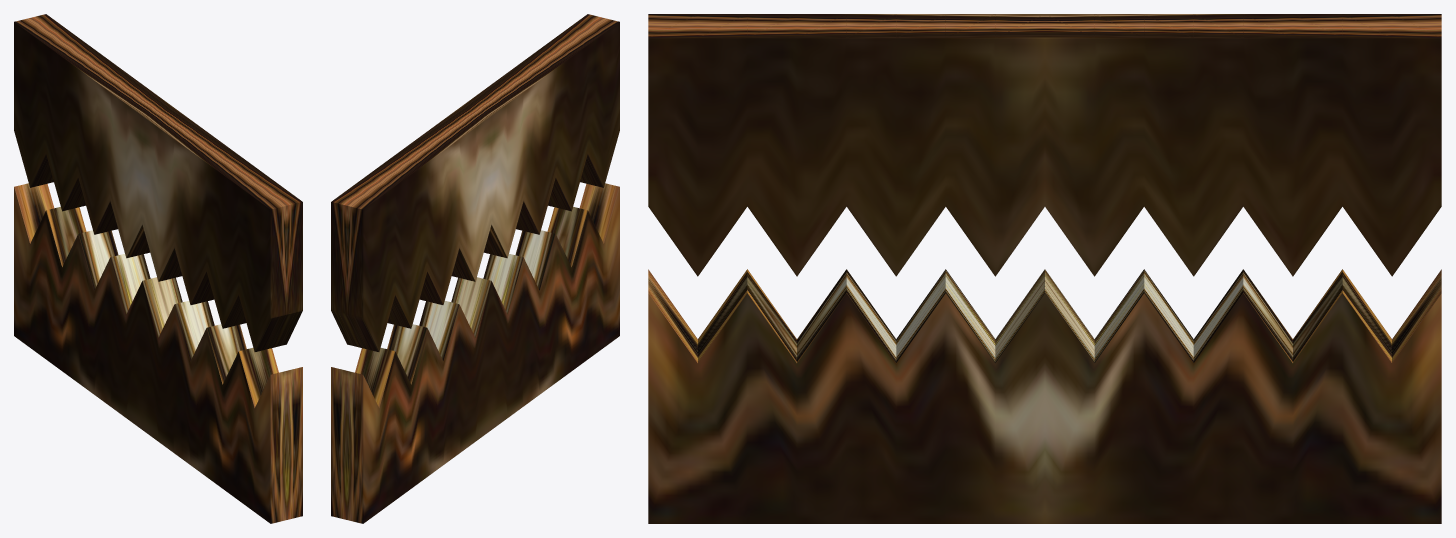
File: TeethSaw.fbx
3 views of the same model, side by side, from view 1: azimuth 30°, elevation 25°; view 2: azimuth 150°, elevation 25°; view 3: azimuth 270°, elevation 25° (orthographic). The views are drawn at different scales.
Parts seen in each view (by area): view 1: polySurface2, polySurface1; view 2: polySurface2, polySurface1; view 3: polySurface2, polySurface1.
Boxes of the visible parts, x1,y1,x2,y2 form: polySurface2: (14, 14, 302, 351); polySurface1: (14, 183, 302, 523); polySurface2: (331, 14, 619, 351); polySurface1: (331, 183, 619, 523); polySurface2: (648, 14, 1441, 276); polySurface1: (648, 269, 1441, 523).
Size of the model in its own units: 0.3186 by 2.98 by 4.41.
Materials: 1 (1 with a texture image).
